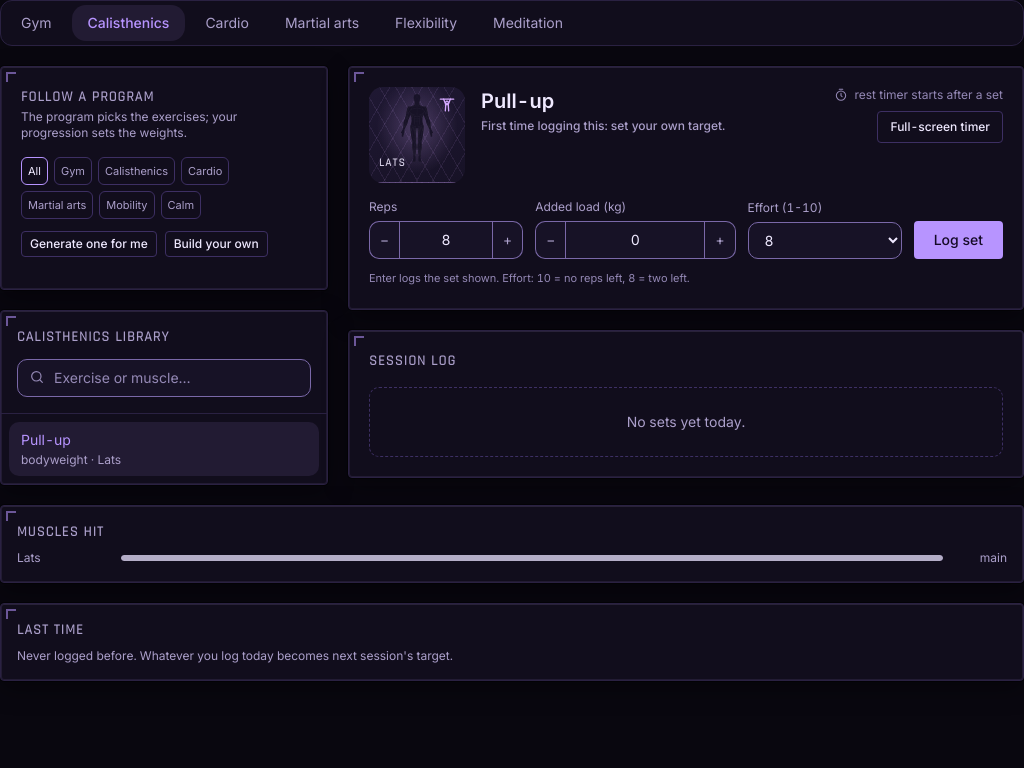
Training page › bodyweight moves start at no added load, and an unlocking set shows the Skill acquired moment
The width and height of the screenshot is (1024, 768).
Expected: the number field named "Added load (kg)" holds "0", [565,221,705,259]
Click the button "Log set".
click(958, 240)  # box [914,221,1003,259]
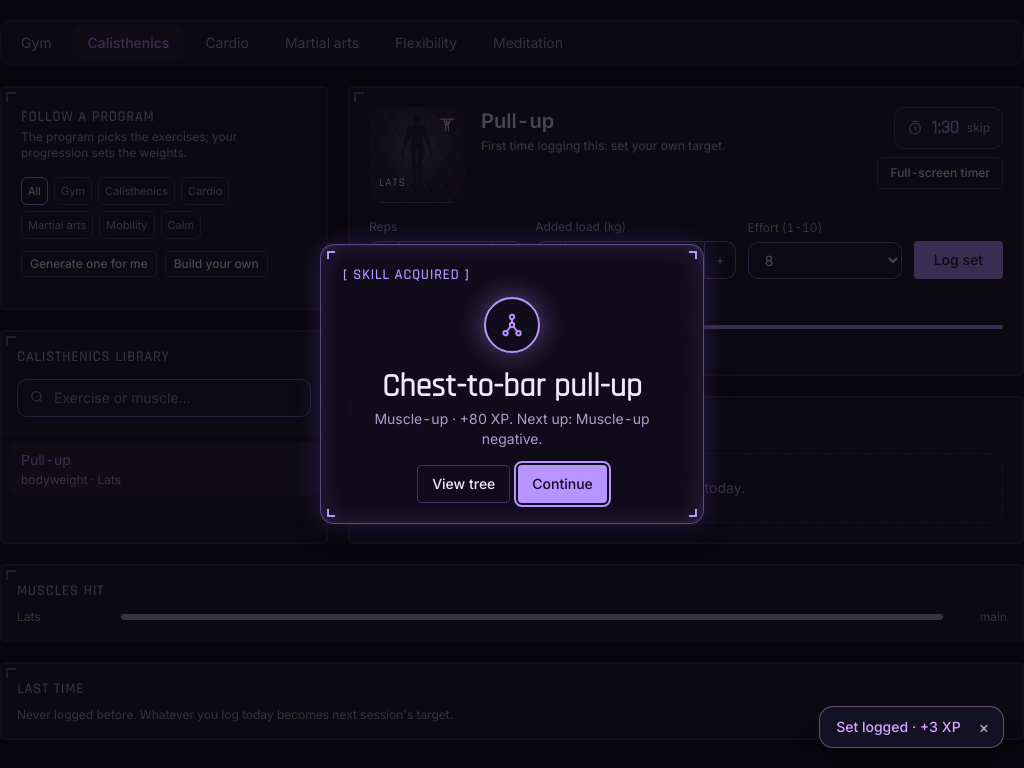
Now the dialog "Chest-to-bar pull-up" shows "Skill acquired", box [353,266,459,284]
Click the button "Continue".
click(563, 484)  # box [518,465,607,503]
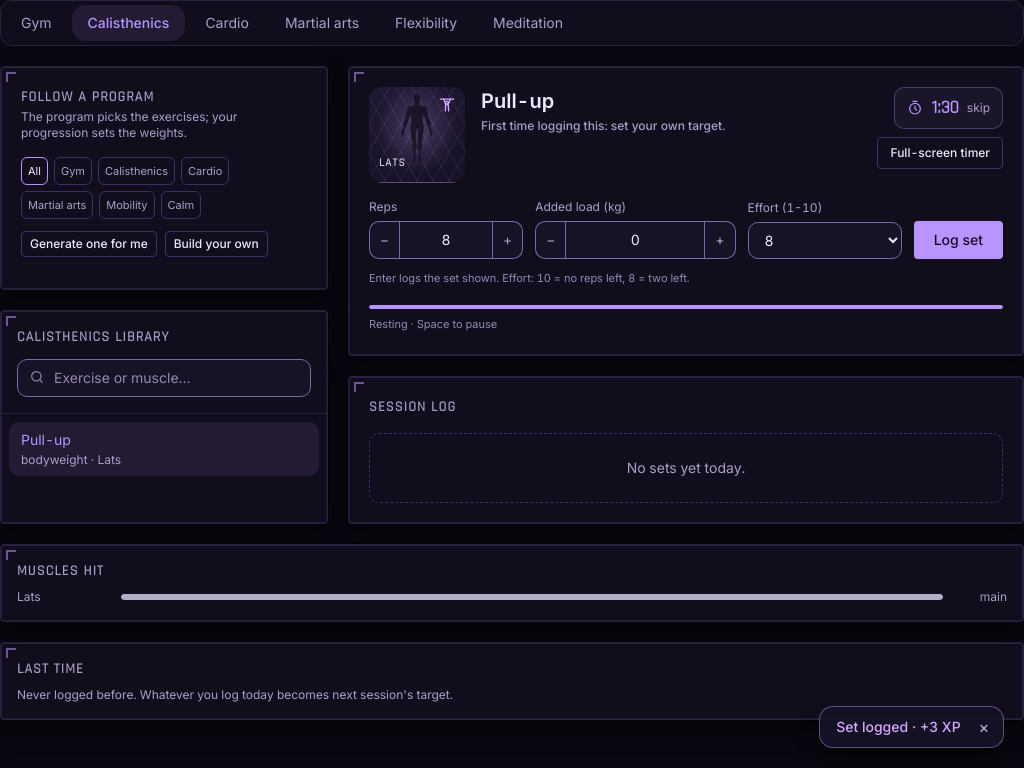
Now the dialog is gone
